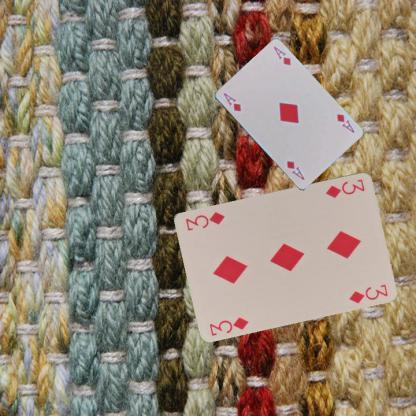3d: (323, 176, 366, 199), (207, 314, 250, 337)
Ad: (220, 90, 242, 113), (334, 111, 355, 134)
